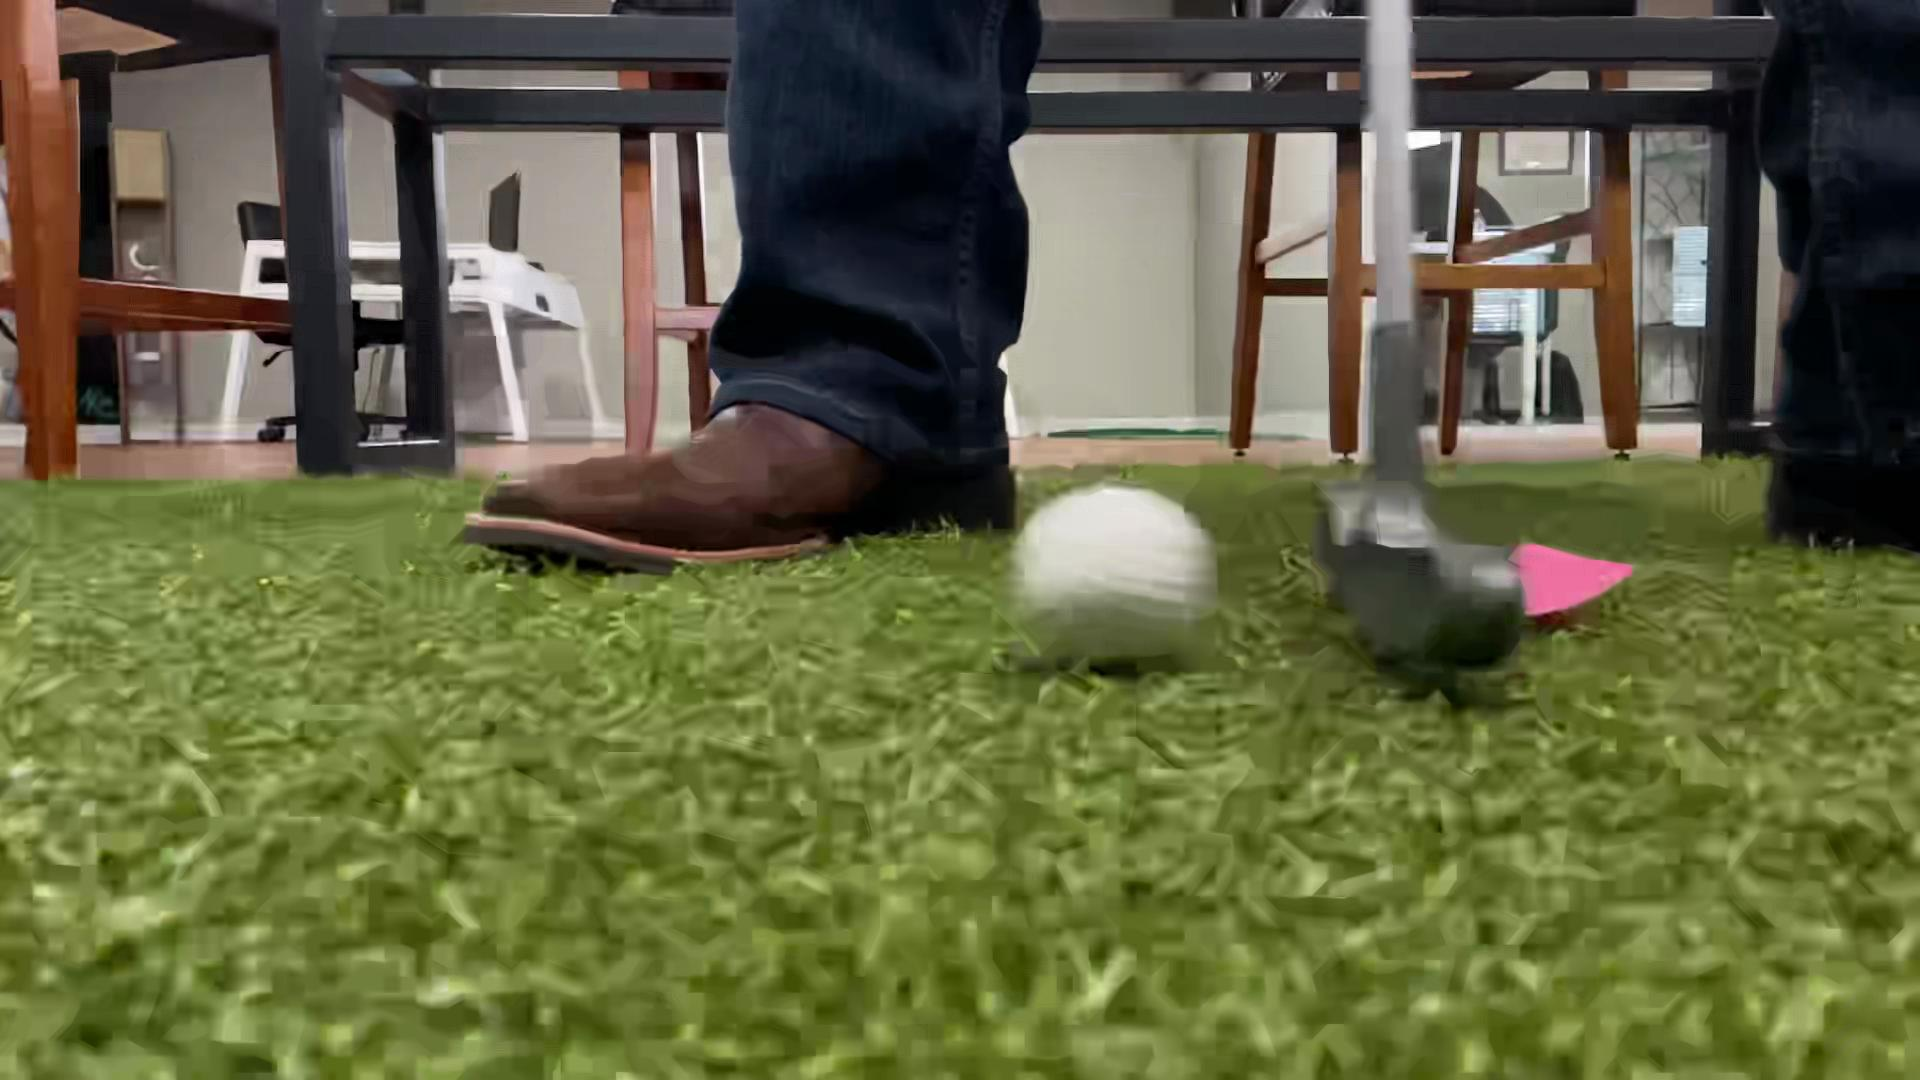golfball: (1007, 484, 1214, 666)
